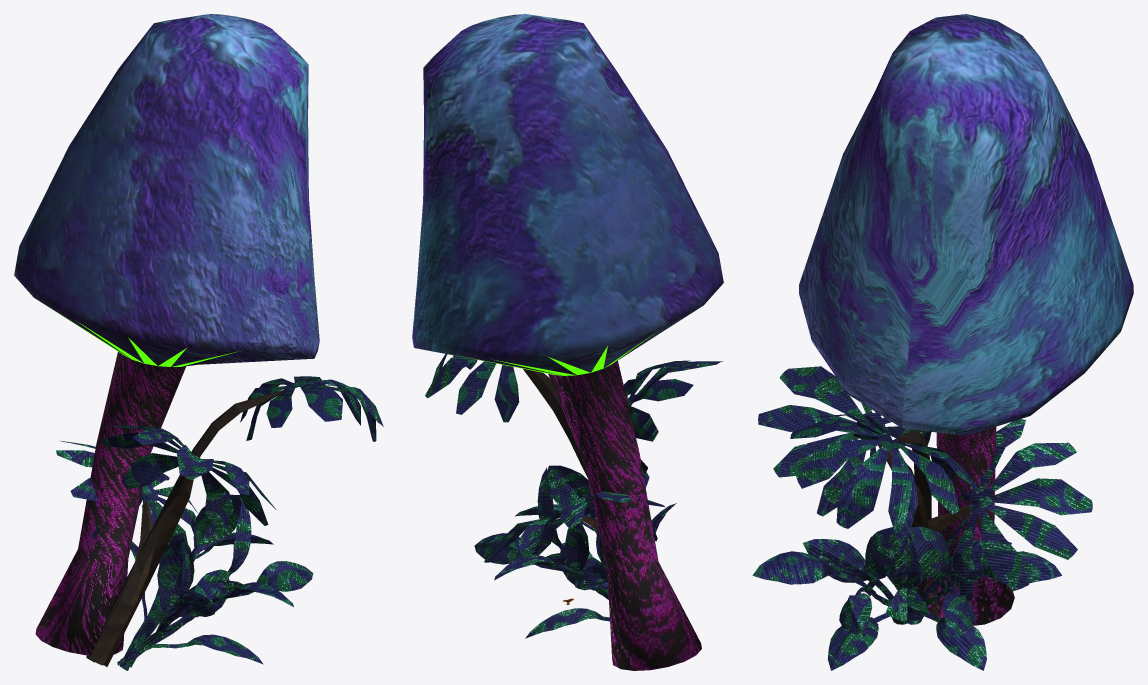
File: track4Structure2.glb
3 views of the same model, side by side, from view 1: azimuth 30°, elevation 25°; view 2: azimuth 150°, elevation 25°; view 3: azimuth 270°, elevation 25° (orthographic). The views are drawn at different scales.
Parts seen in each view (by area): view 1: track4Structure2; view 2: track4Structure2; view 3: track4Structure2.
Boxes of the visible parts, bbox=[...] form: track4Structure2: bbox=[14, 14, 383, 670]; track4Structure2: bbox=[412, 14, 723, 670]; track4Structure2: bbox=[752, 14, 1133, 670].
Size of the model in its own units: 5.06 by 9.85 by 5.27.
3 materials, 2 textured.
